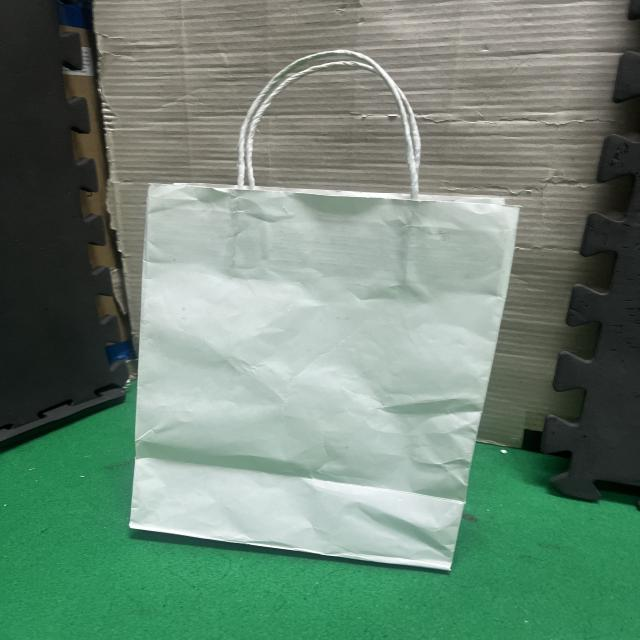paper bag: (85, 35, 564, 592)
